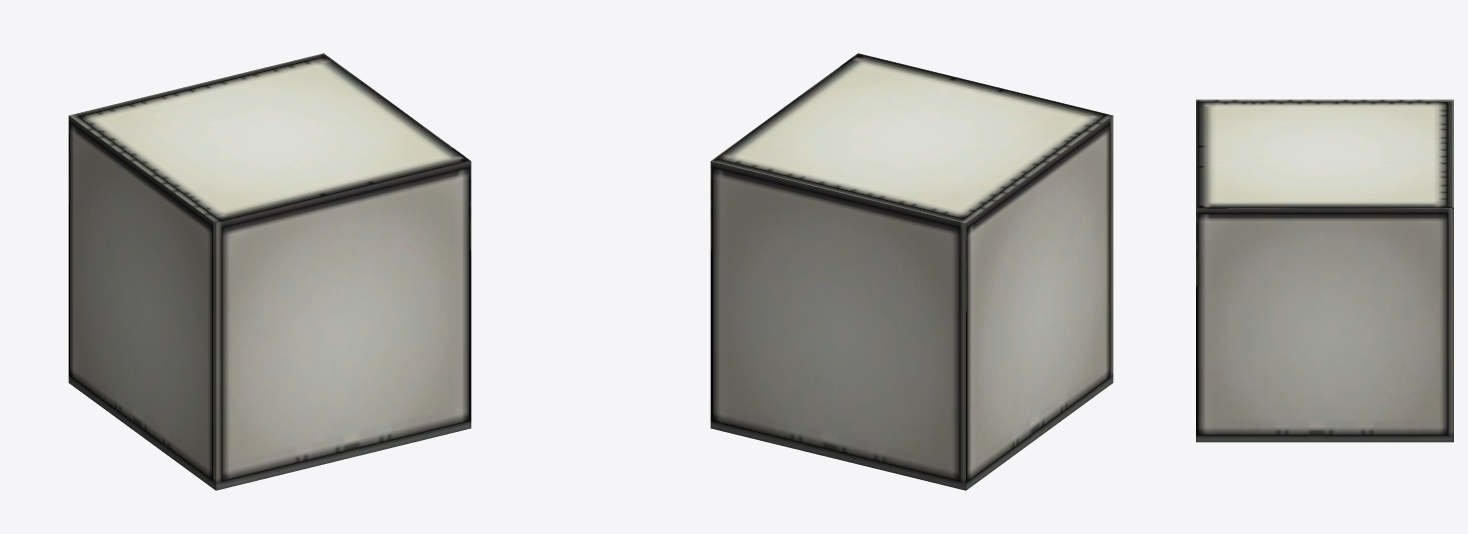
File: wall_sconce_var2.fbx
3 views of the same model, side by side, from view 1: azimuth 30°, elevation 25°; view 2: azimuth 150°, elevation 25°; view 3: azimuth 270°, elevation 25° (orthographic). The views are drawn at different scales.
Parts seen in each view (by area): view 1: mesh_0; view 2: mesh_0; view 3: mesh_0.
Boxes of the visible parts, left/top/right/bottom form: mesh_0: left=68, top=53, right=471, bottom=490; mesh_0: left=710, top=53, right=1113, bottom=490; mesh_0: left=1196, top=99, right=1453, bottom=442.
Bounding box in the file's own units: 46.8 × 35.1 × 26.
1 material, 1 textured.
